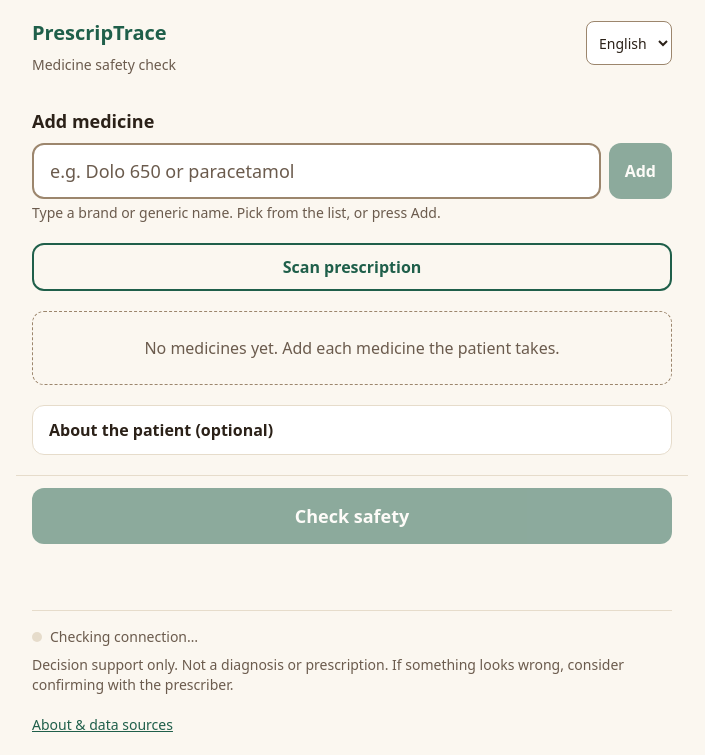
Test: language › switches language, updates the page language and flags machine translation
Select "हिन्दी" in the dropdown named "Language" at (629,43), box [586,21,672,65]
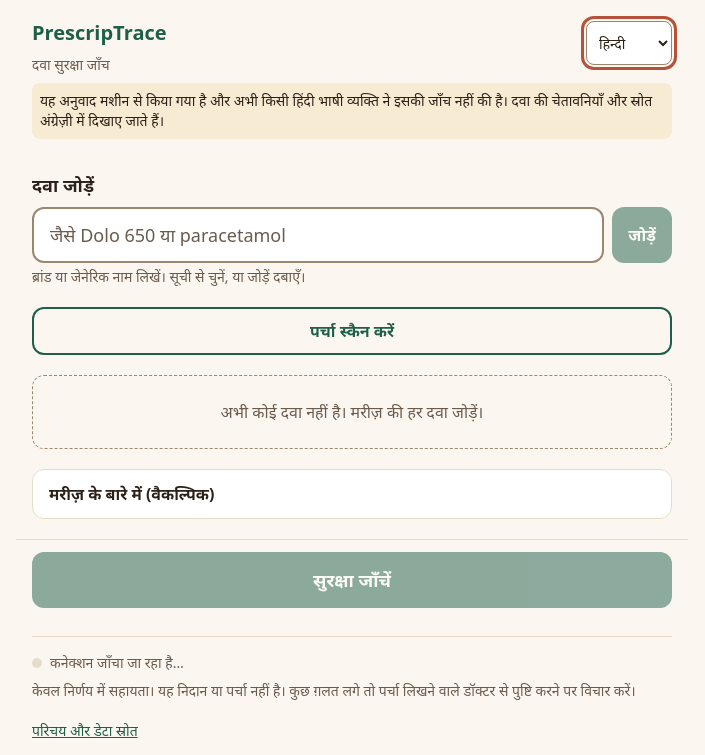
Expected: the dropdown labelled "दवा जोड़ें" is shown, [32,207,604,263]
Expected: the text "मशीन से किया गया है" is shown, [40,91,652,130]
